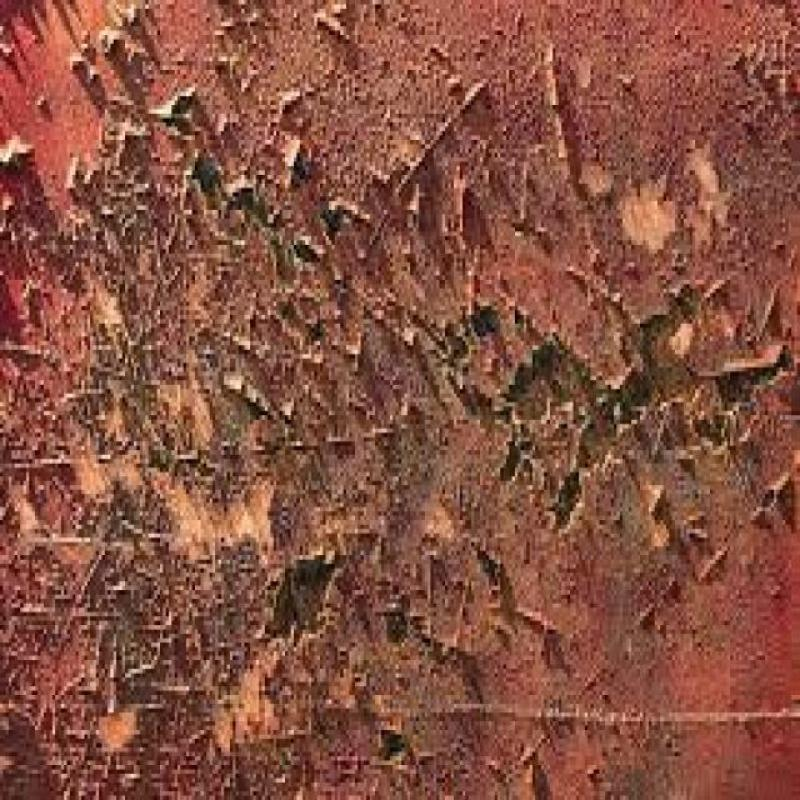corrosion: (35, 12, 657, 650)
